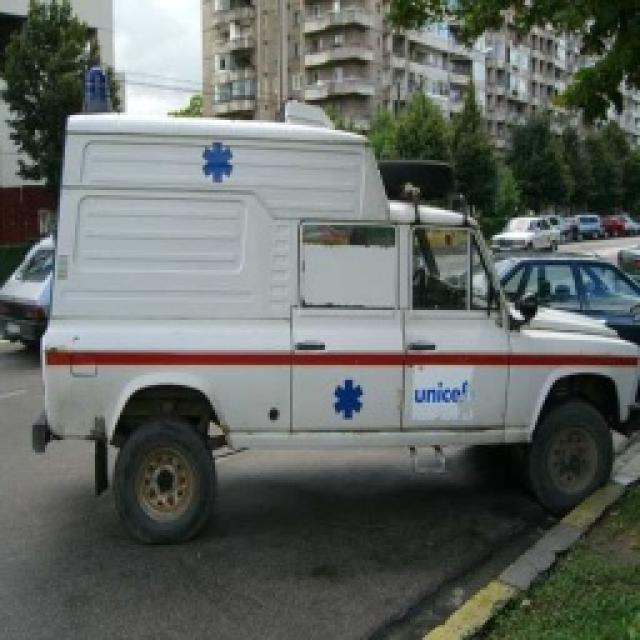emergency-vehicle: (35, 95, 640, 527)
